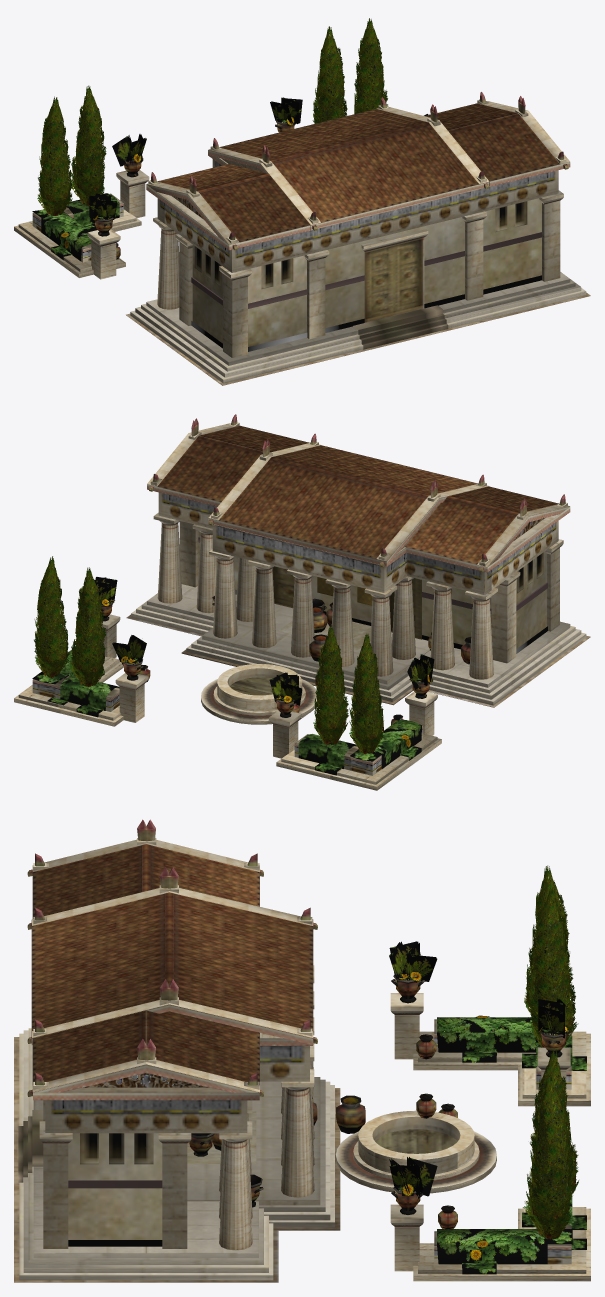
Rendered from s_spartans_civic_center.glb.
The picture shows the model from 3 angles, top to bottom: view 1: azimuth 30°, elevation 25°; view 2: azimuth 150°, elevation 25°; view 3: azimuth 270°, elevation 25°; orthographic projection. The views are drawn at different scales.
Parts seen in each view (by area): view 1: s_spartans_civic_center_part0, s_spartans_civic_center_part1, s_spartans_civic_center_part3, s_spartans_civic_center_part7, s_spartans_civic_center_part9, s_spartans_civic_center_part5; view 2: s_spartans_civic_center_part0, s_spartans_civic_center_part1, s_spartans_civic_center_part5, s_spartans_civic_center_part9, s_spartans_civic_center_part3, s_spartans_civic_center_part7; view 3: s_spartans_civic_center_part0, s_spartans_civic_center_part1, s_spartans_civic_center_part5, s_spartans_civic_center_part7, s_spartans_civic_center_part9, s_spartans_civic_center_part3, s_spartans_civic_center_part4, s_spartans_civic_center_part6.
Part boxes in pixels (<box>): s_spartans_civic_center_part0: <box>14,92,590,385</box>; s_spartans_civic_center_part1: <box>32,97,429,261</box>; s_spartans_civic_center_part3: <box>37,96,72,215</box>; s_spartans_civic_center_part7: <box>70,85,106,205</box>; s_spartans_civic_center_part9: <box>312,26,347,123</box>; s_spartans_civic_center_part5: <box>354,18,387,113</box>; s_spartans_civic_center_part0: <box>14,414,590,790</box>; s_spartans_civic_center_part1: <box>32,577,434,775</box>; s_spartans_civic_center_part5: <box>34,556,69,677</box>; s_spartans_civic_center_part9: <box>69,567,105,686</box>; s_spartans_civic_center_part3: <box>349,633,383,754</box>; s_spartans_civic_center_part7: <box>313,625,348,744</box>; s_spartans_civic_center_part0: <box>14,819,590,1282</box>; s_spartans_civic_center_part1: <box>389,941,586,1274</box>; s_spartans_civic_center_part5: <box>523,1074,573,1239</box>; s_spartans_civic_center_part7: <box>528,887,578,1047</box>; s_spartans_civic_center_part9: <box>530,1049,578,1195</box>; s_spartans_civic_center_part3: <box>524,865,573,1011</box>; s_spartans_civic_center_part4: <box>533,1098,567,1238</box>; s_spartans_civic_center_part6: <box>534,905,568,1012</box>.
Bounding box in the file's own units: 6.2 × 2.79 × 6.16.
4 materials, 4 textured.
